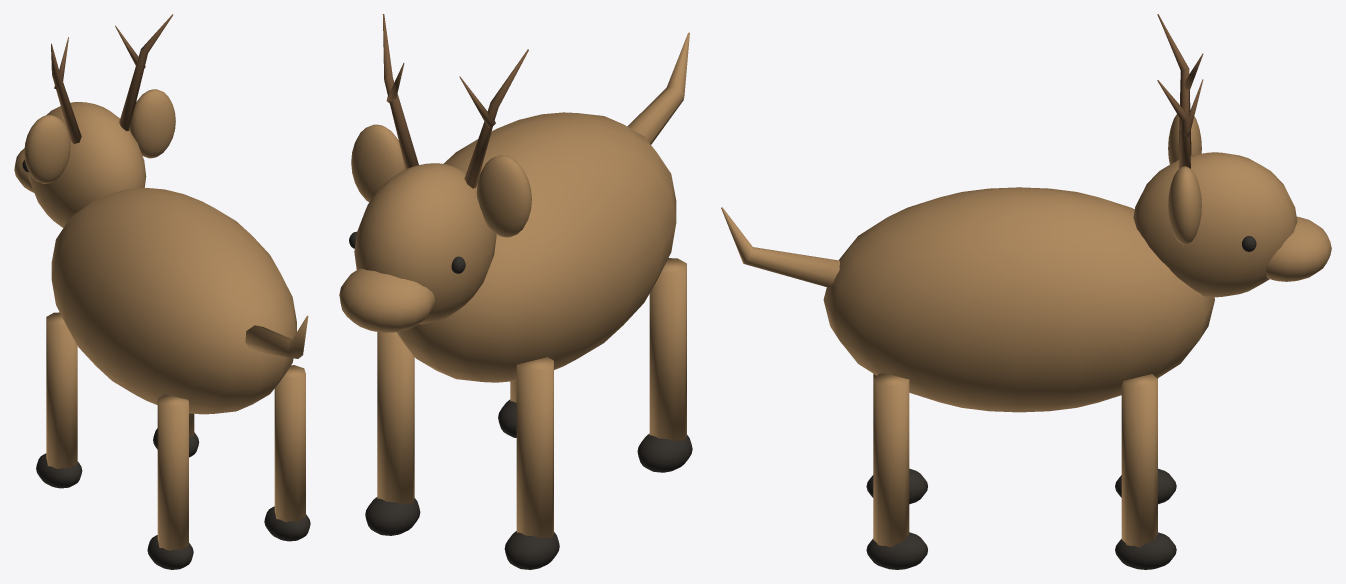
Rendered from deer.glb.
3 views of the same model, side by side, from view 1: azimuth 30°, elevation 25°; view 2: azimuth 150°, elevation 25°; view 3: azimuth 270°, elevation 25° (orthographic). The views are drawn at different scales.
Visible parts, largest first — view 1: Deer_Geometry, AnimalHead.001_Geometry, AnimalLeg.005_Geometry, AnimalLeg.007_Geometry, AnimalLeg.004_Geometry, AnimalLeg.006_Geometry; view 2: Deer_Geometry, AnimalHead.001_Geometry, AnimalLeg.004_Geometry, AnimalLeg.005_Geometry, AnimalLeg.006_Geometry, AnimalLeg.007_Geometry; view 3: Deer_Geometry, AnimalHead.001_Geometry, AnimalLeg.007_Geometry, AnimalLeg.006_Geometry.
Boxes of the visible parts, <box> form: Deer_Geometry: <box>51,188,308,414</box>; AnimalHead.001_Geometry: <box>14,14,175,228</box>; AnimalLeg.005_Geometry: <box>147,394,193,569</box>; AnimalLeg.007_Geometry: <box>264,365,310,541</box>; AnimalLeg.004_Geometry: <box>36,312,82,488</box>; AnimalLeg.006_Geometry: <box>153,413,199,457</box>; Deer_Geometry: <box>396,32,689,382</box>; AnimalHead.001_Geometry: <box>339,14,531,332</box>; AnimalLeg.004_Geometry: <box>504,357,559,569</box>; AnimalLeg.005_Geometry: <box>637,258,692,472</box>; AnimalLeg.006_Geometry: <box>365,332,420,535</box>; AnimalLeg.007_Geometry: <box>498,381,516,437</box>; Deer_Geometry: <box>721,187,1214,412</box>; AnimalHead.001_Geometry: <box>1133,14,1331,297</box>; AnimalLeg.007_Geometry: <box>866,373,927,569</box>; AnimalLeg.006_Geometry: <box>1115,374,1176,569</box>.
Size of the model in its own units: 0.75 by 1.79 by 2.03.
